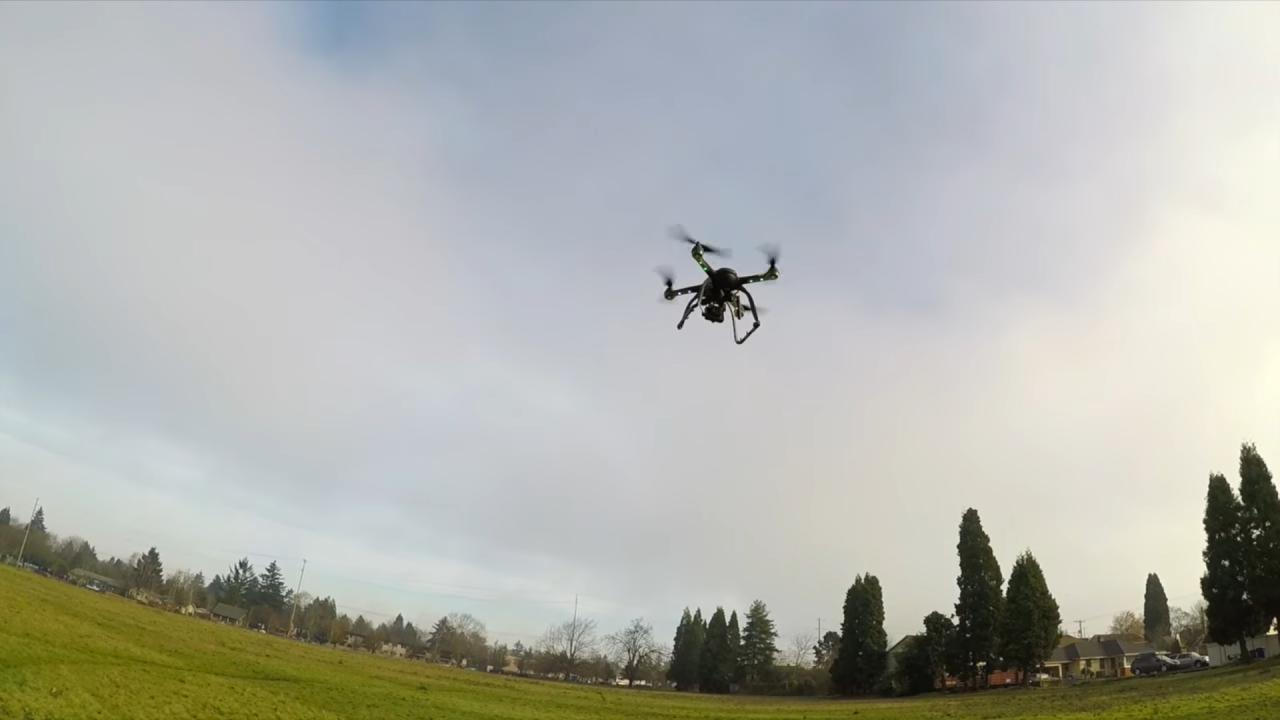Drone: (640, 210, 794, 354)
